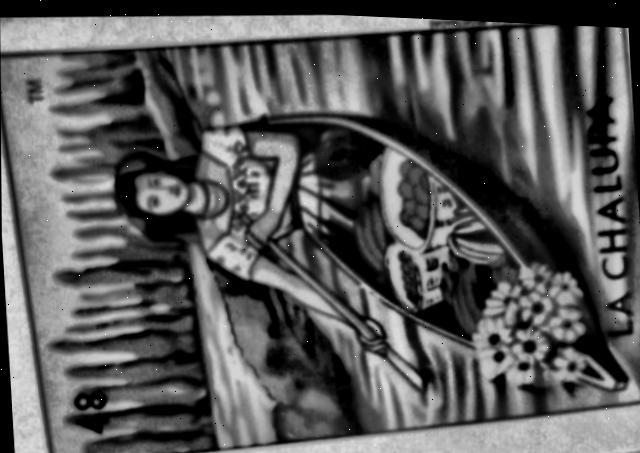La Chalupa: (0, 19, 640, 453)
